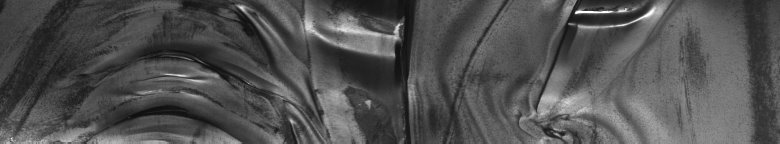ke: (4, 4, 670, 136)
